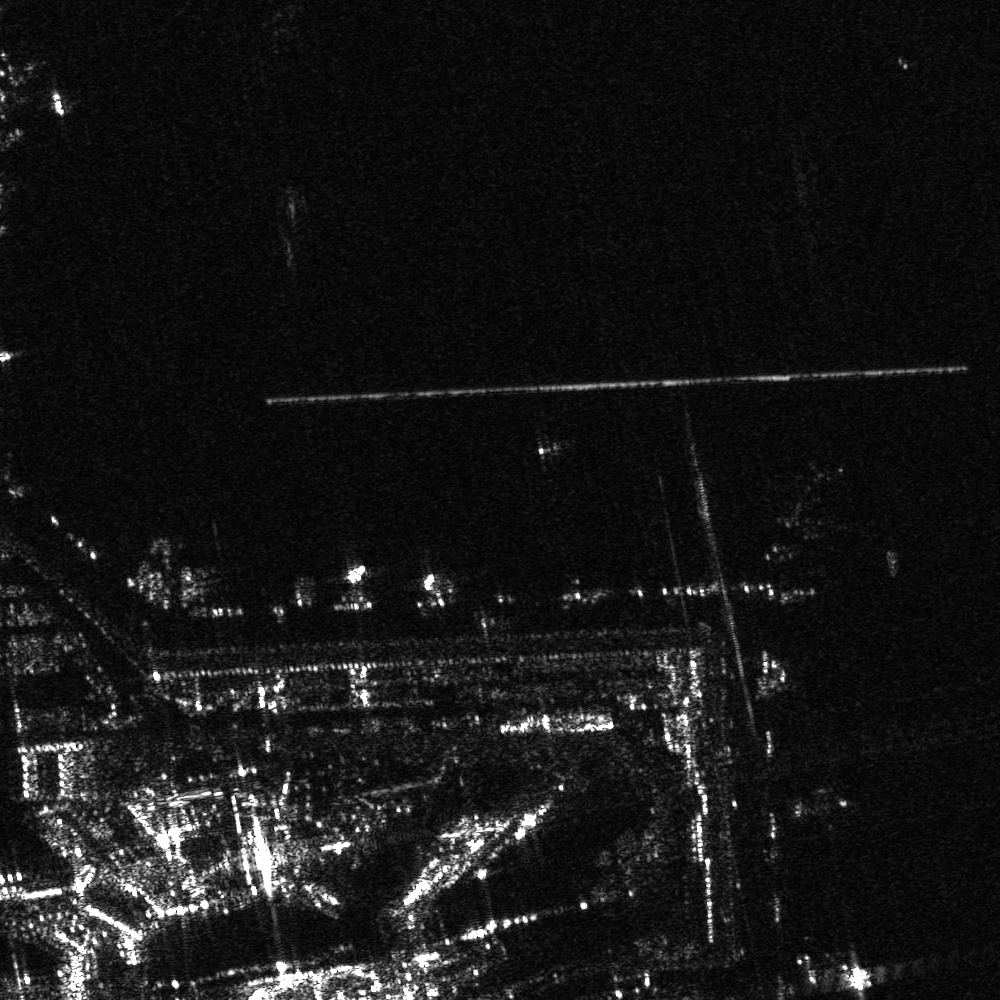A320/321: (744, 458, 840, 570)
